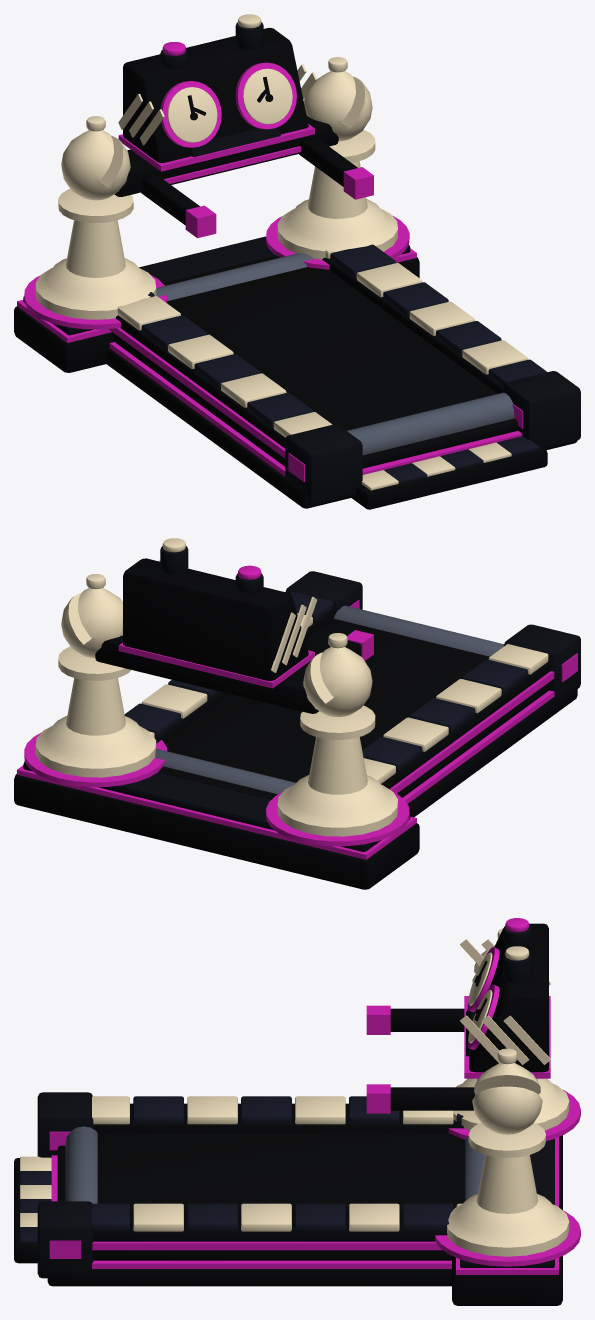
The model's file is BishopRun.obj.
3 views of the same model, one above another, from view 1: azimuth 30°, elevation 25°; view 2: azimuth 150°, elevation 25°; view 3: azimuth 270°, elevation 25° (orthographic). The views are drawn at different scales.
Parts seen in each view (by area): view 1: BishopRun_Chess, BishopRun_Body, BishopRun_Belt, BishopRun_Neon, BishopRun_Panel, BishopRun_Square, BishopRun_Steel; view 2: BishopRun_Body, BishopRun_Chess, BishopRun_Belt, BishopRun_Neon, BishopRun_Panel, BishopRun_Square, BishopRun_Steel; view 3: BishopRun_Body, BishopRun_Chess, BishopRun_Belt, BishopRun_Neon, BishopRun_Square, BishopRun_Panel, BishopRun_Steel.
Boxes of the visible parts, x1,y1,x2,y2 form: BishopRun_Chess: (35, 14, 527, 490); BishopRun_Body: (14, 28, 577, 509); BishopRun_Belt: (162, 255, 497, 430); BishopRun_Neon: (17, 42, 523, 481); BishopRun_Panel: (23, 22, 580, 504); BishopRun_Square: (141, 244, 547, 483); BishopRun_Steel: (156, 253, 514, 455); BishopRun_Body: (14, 558, 577, 889); BishopRun_Chess: (35, 538, 548, 836); BishopRun_Belt: (158, 619, 489, 799); BishopRun_Neon: (17, 565, 577, 859); BishopRun_Panel: (23, 546, 580, 851); BishopRun_Square: (124, 591, 527, 770); BishopRun_Steel: (155, 605, 503, 794); BishopRun_Body: (14, 923, 562, 1305); BishopRun_Chess: (20, 928, 569, 1256); BishopRun_Belt: (97, 1133, 465, 1210); BishopRun_Neon: (49, 918, 580, 1274); BishopRun_Square: (20, 1096, 463, 1243); BishopRun_Panel: (37, 926, 554, 1278); BishopRun_Steel: (65, 1126, 484, 1203).
Bounding box in the file's own units: 10.91 × 8.01 × 14.31.
